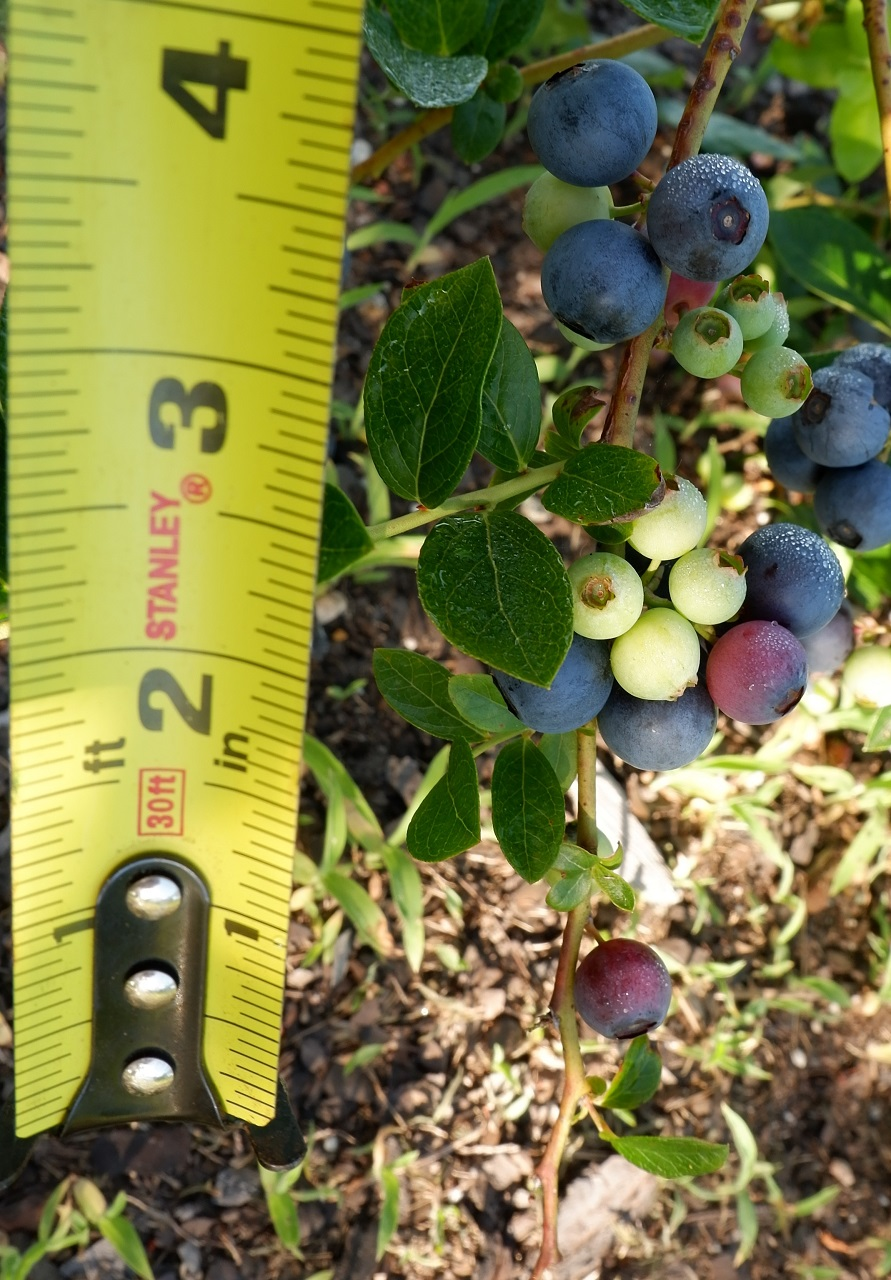Immature: (611, 607, 700, 699), (522, 170, 615, 257), (627, 471, 709, 559), (568, 550, 644, 639), (669, 548, 749, 623), (740, 346, 814, 417), (672, 307, 743, 379), (714, 273, 778, 340), (844, 644, 890, 707), (743, 292, 790, 353), (556, 319, 614, 352)
Mature: (526, 57, 657, 188), (646, 154, 770, 281), (540, 219, 664, 344), (488, 631, 616, 733), (737, 523, 845, 639), (596, 674, 717, 771), (705, 621, 808, 726), (573, 938, 671, 1041), (793, 367, 890, 466), (813, 458, 890, 551), (763, 414, 835, 493), (831, 341, 890, 417), (802, 596, 855, 671)
